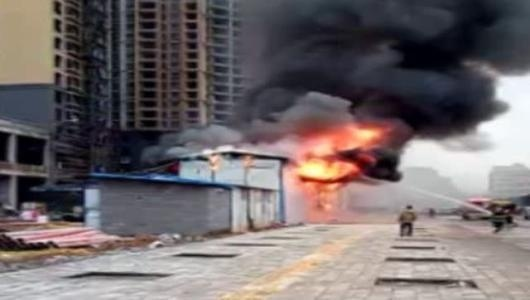fire: (289, 123, 379, 184)
